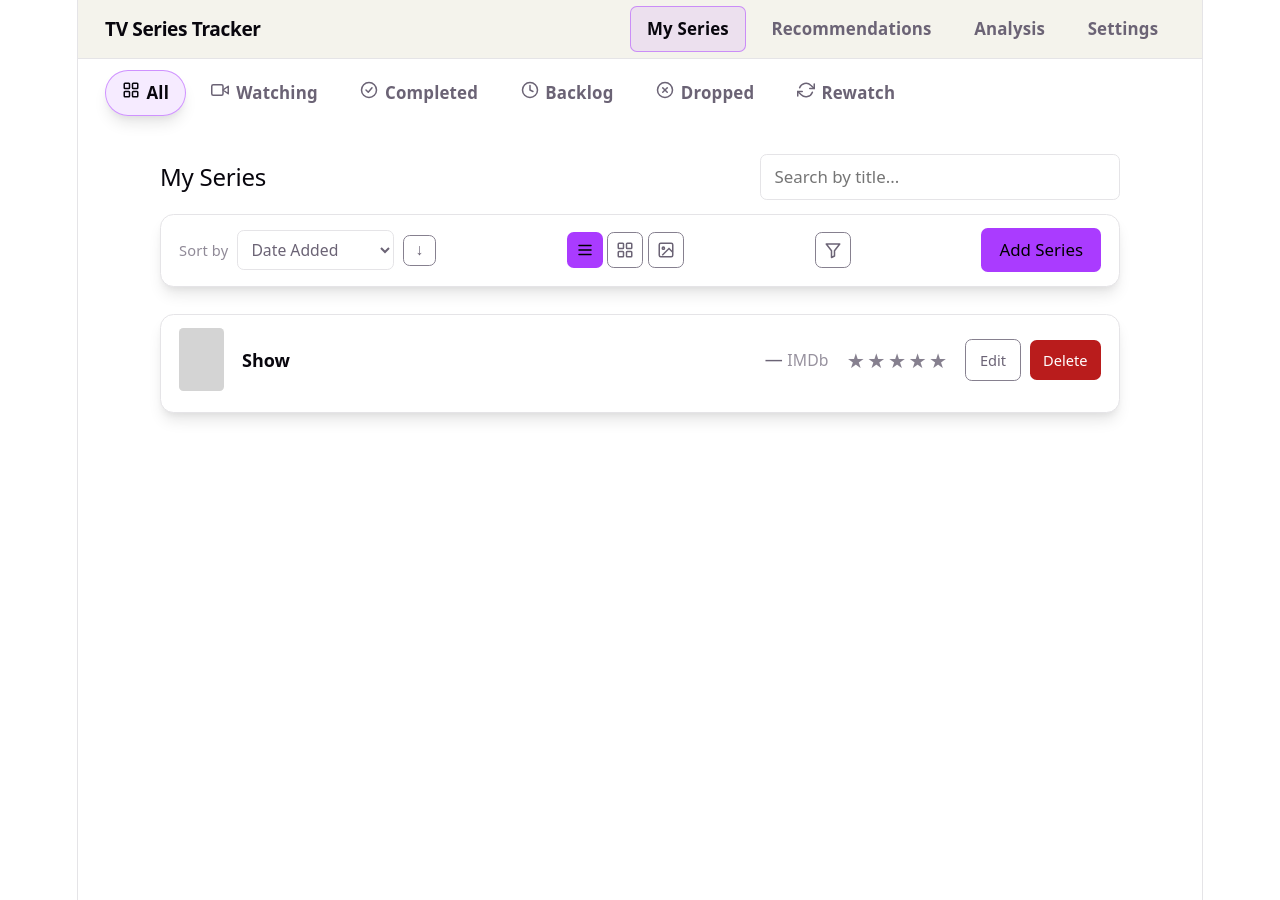
FRONTEND-004-AC-37: successful edit refreshes the list › closes the dialog and re-fetches the series list
The image size is (1280, 900).
Click the button with test id "edit-series-btn" at point(993, 360), box [965,339,1021,381]
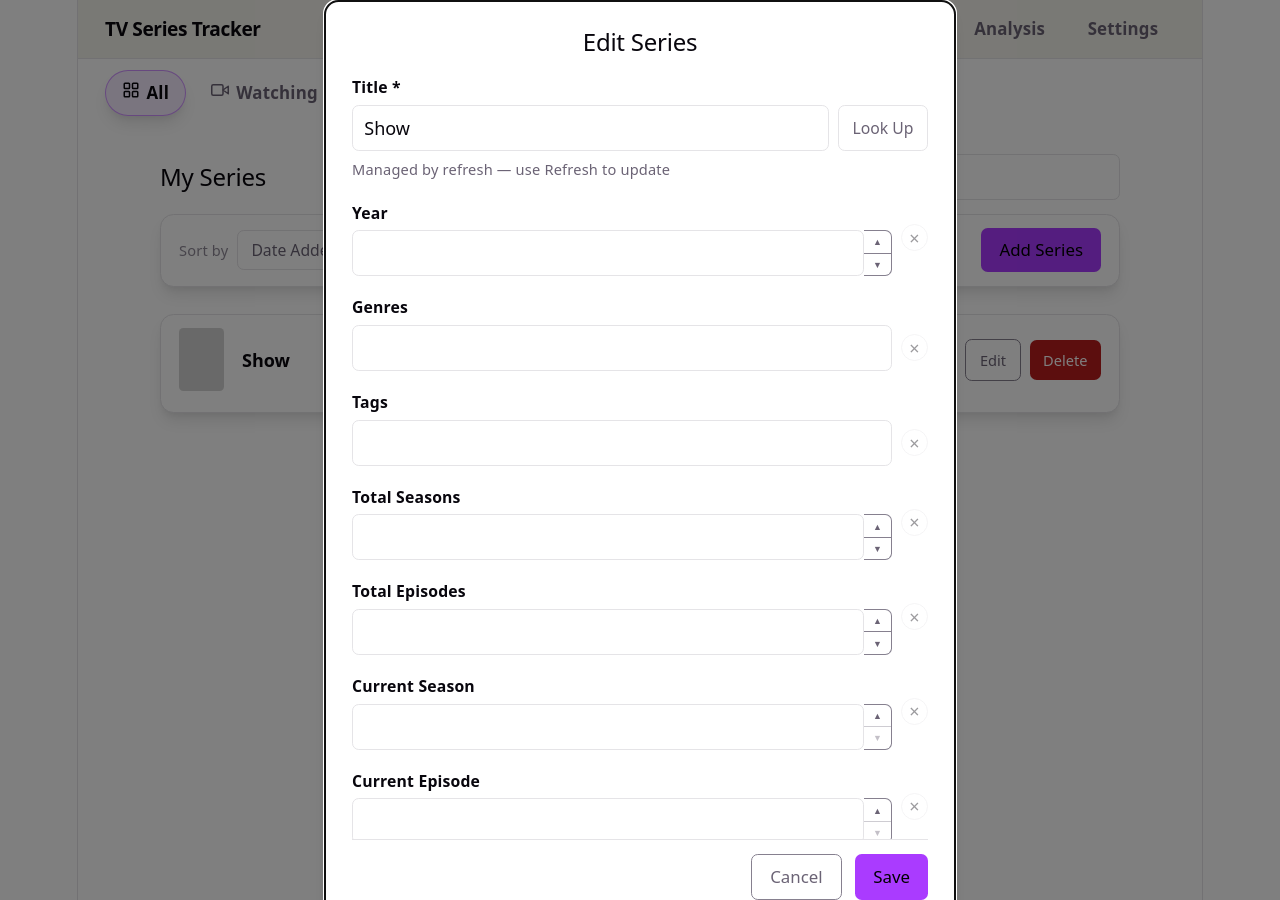
Click the button "Save" at point(892, 877), box [855,854,928,899]
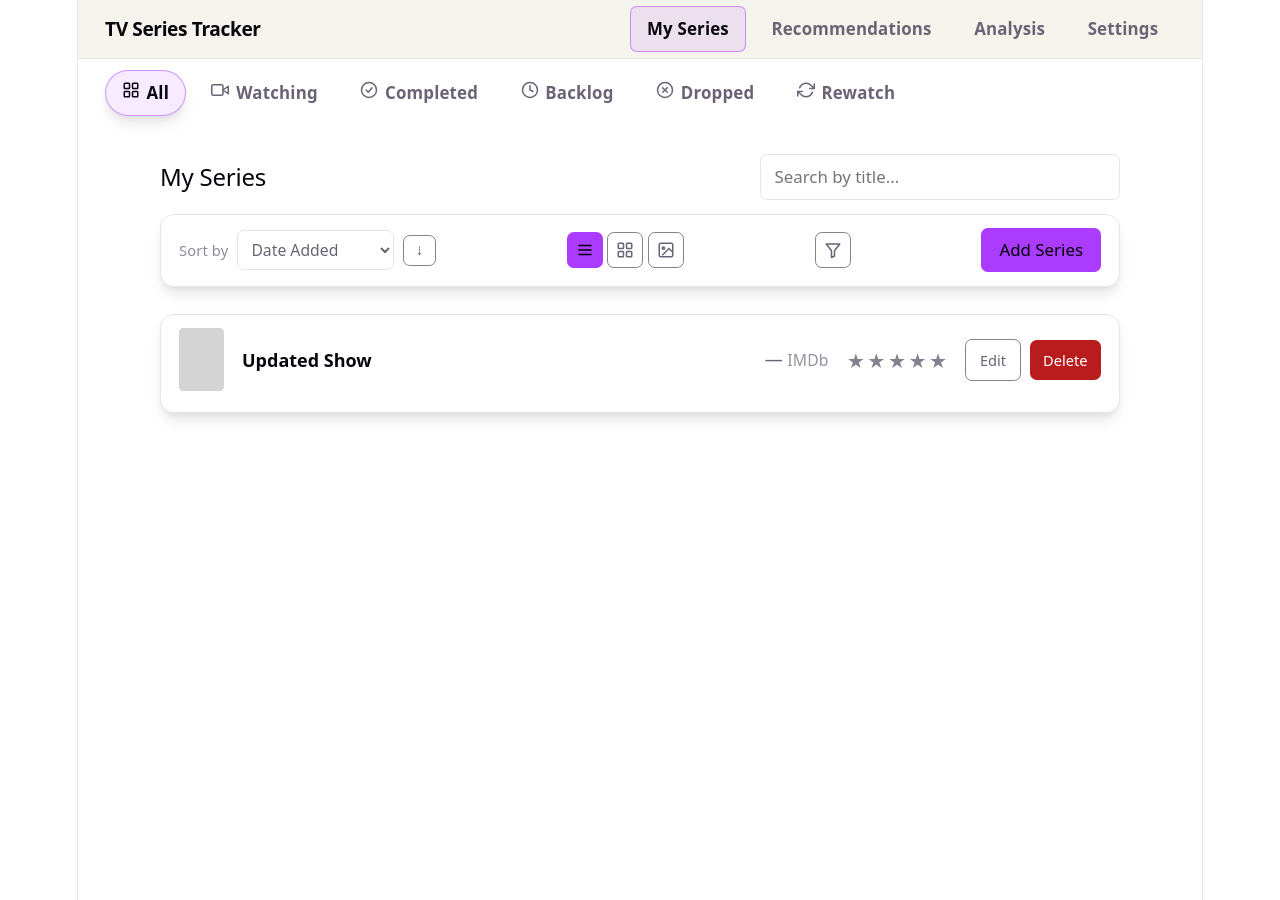
Result: the button "Updated Show" is shown at [242,347,372,373]
